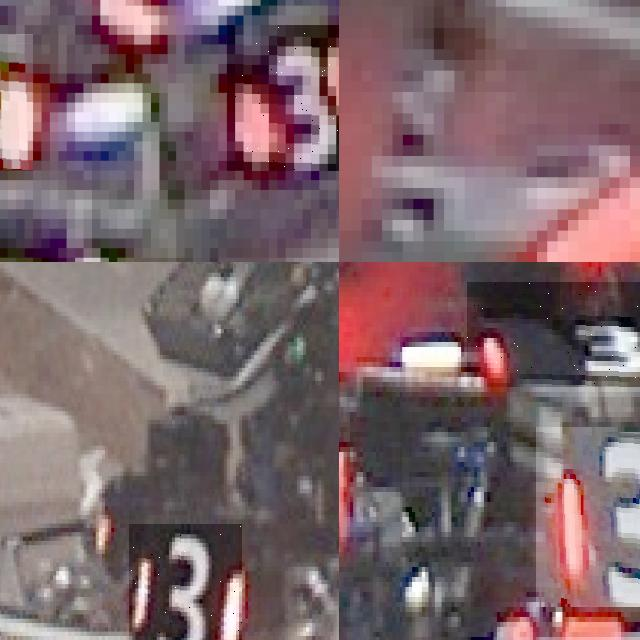R3: (536, 427, 640, 607), (467, 282, 640, 387), (227, 25, 339, 170), (129, 523, 242, 640), (0, 34, 33, 170)
